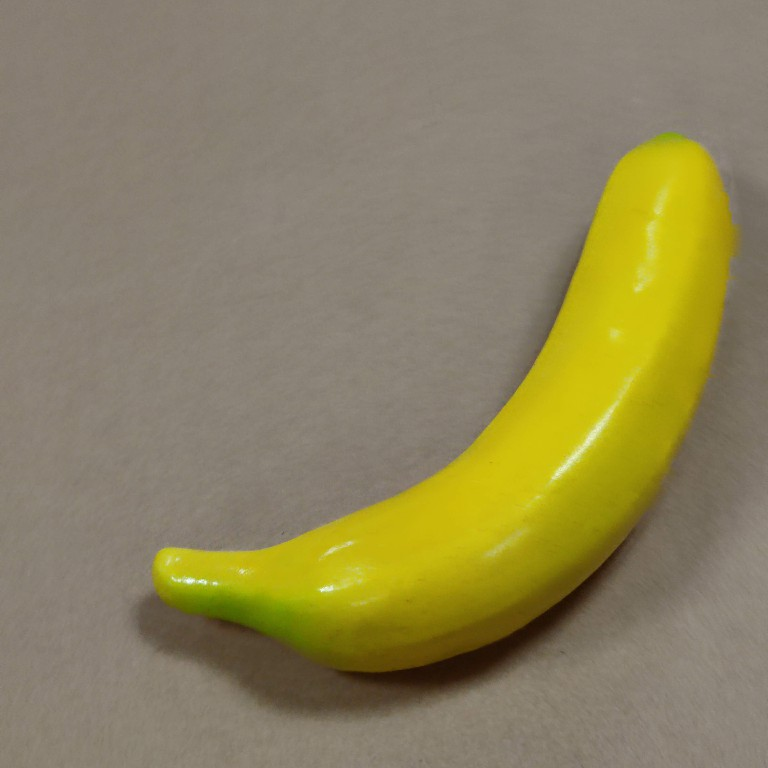fruit_banana: (146, 127, 743, 690)
